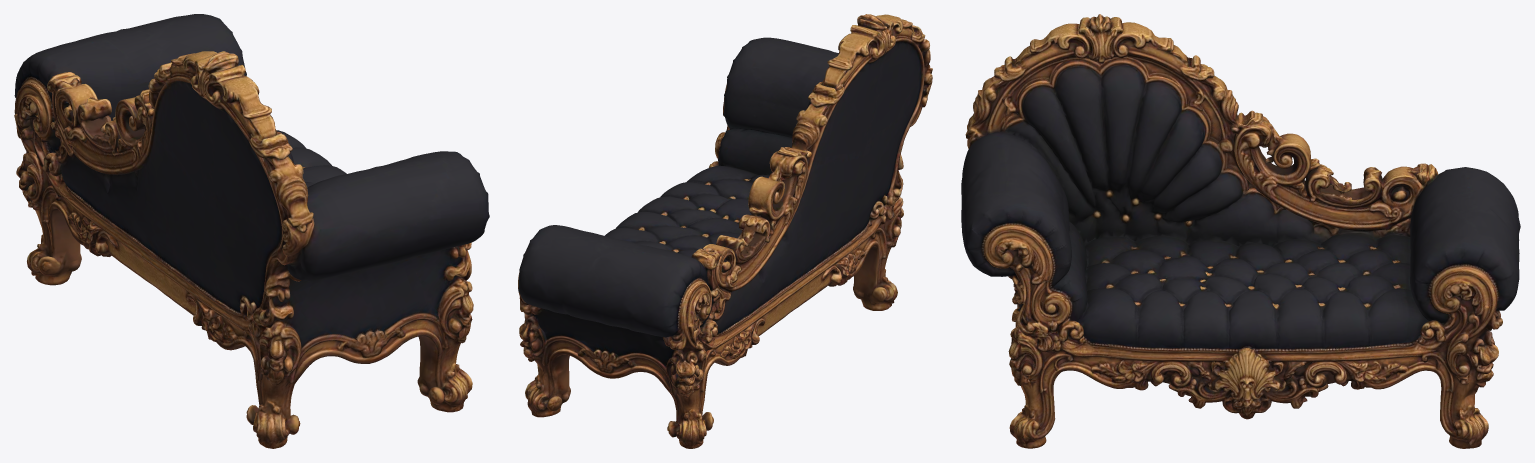
The model's file is sofa2.glb.
The picture shows the model from 3 angles, left to right: view 1: azimuth 30°, elevation 25°; view 2: azimuth 150°, elevation 25°; view 3: azimuth 270°, elevation 25°; orthographic projection. The views are drawn at different scales.
Visible parts, largest first — view 1: Object_4; view 2: Object_4; view 3: Object_4.
Boxes of the visible parts, x1,y1,x2,y2 form: Object_4: [14, 14, 489, 448]; Object_4: [518, 14, 932, 448]; Object_4: [961, 14, 1520, 448].
Bounding box in the file's own units: 0.4776 × 0.6788 × 1.
Materials: 1 (1 with a texture image).
